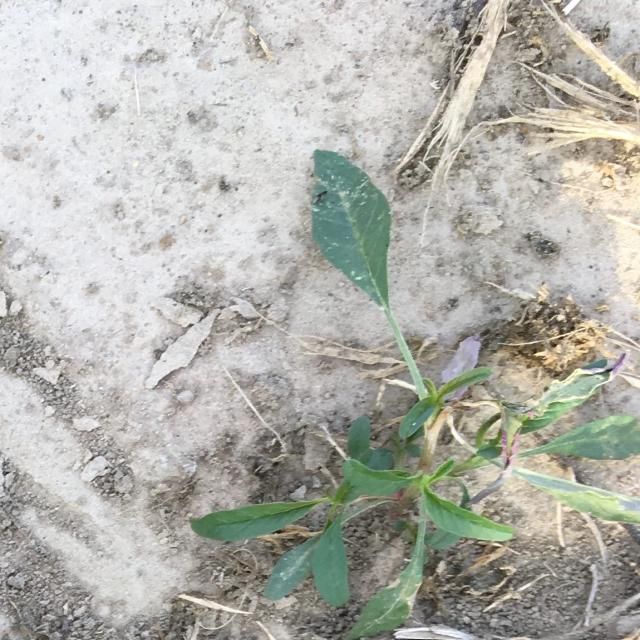Waterhemp: (188, 149, 640, 640)
